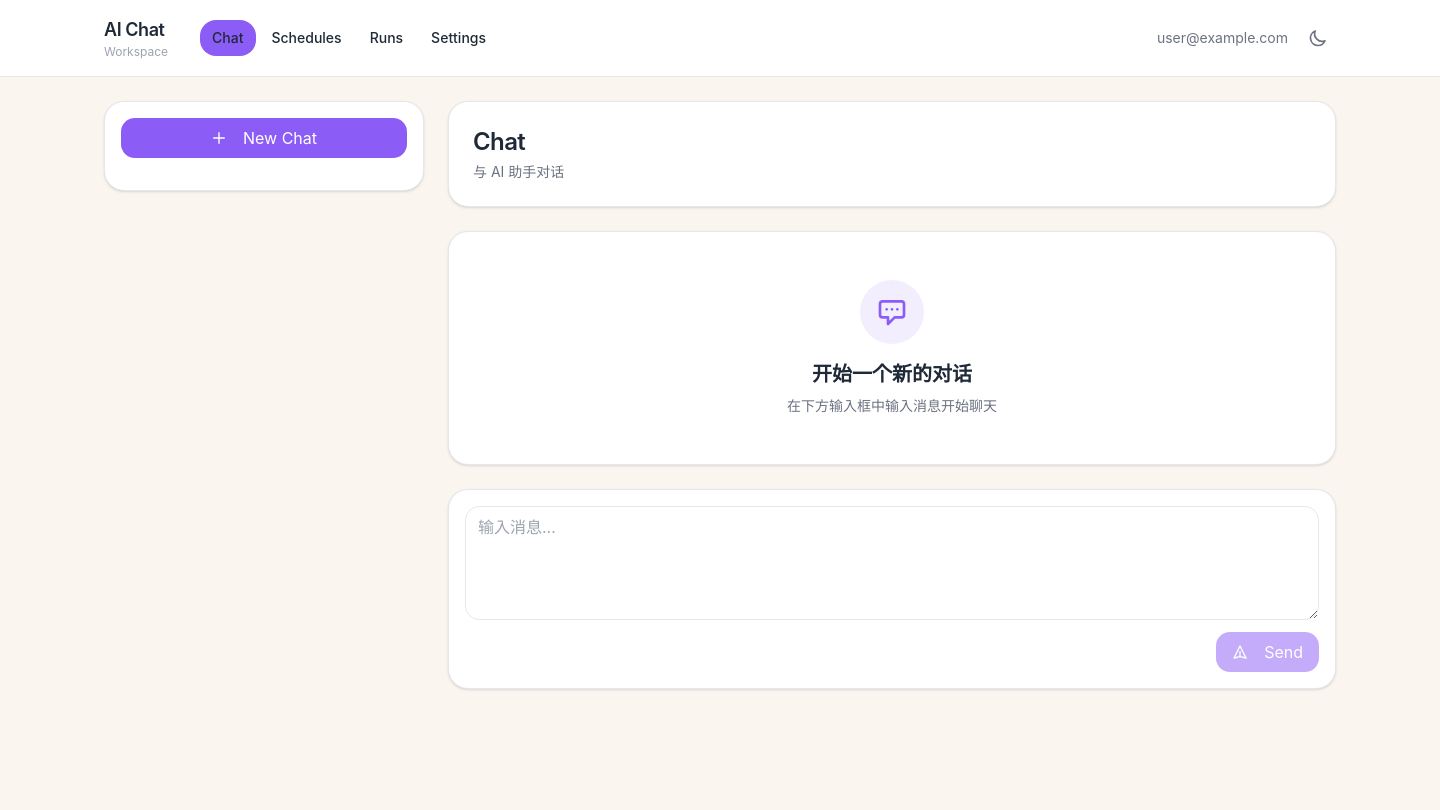
ChatPage › shows empty state before first message and recovery action after failed stream
expect the heading "开始一个新的对话" is shown: met, box top-left (812, 360), bottom-right (972, 388)
In the text box: (892, 563) top-left (465, 506), bottom-right (1319, 620), type "Hello AI"
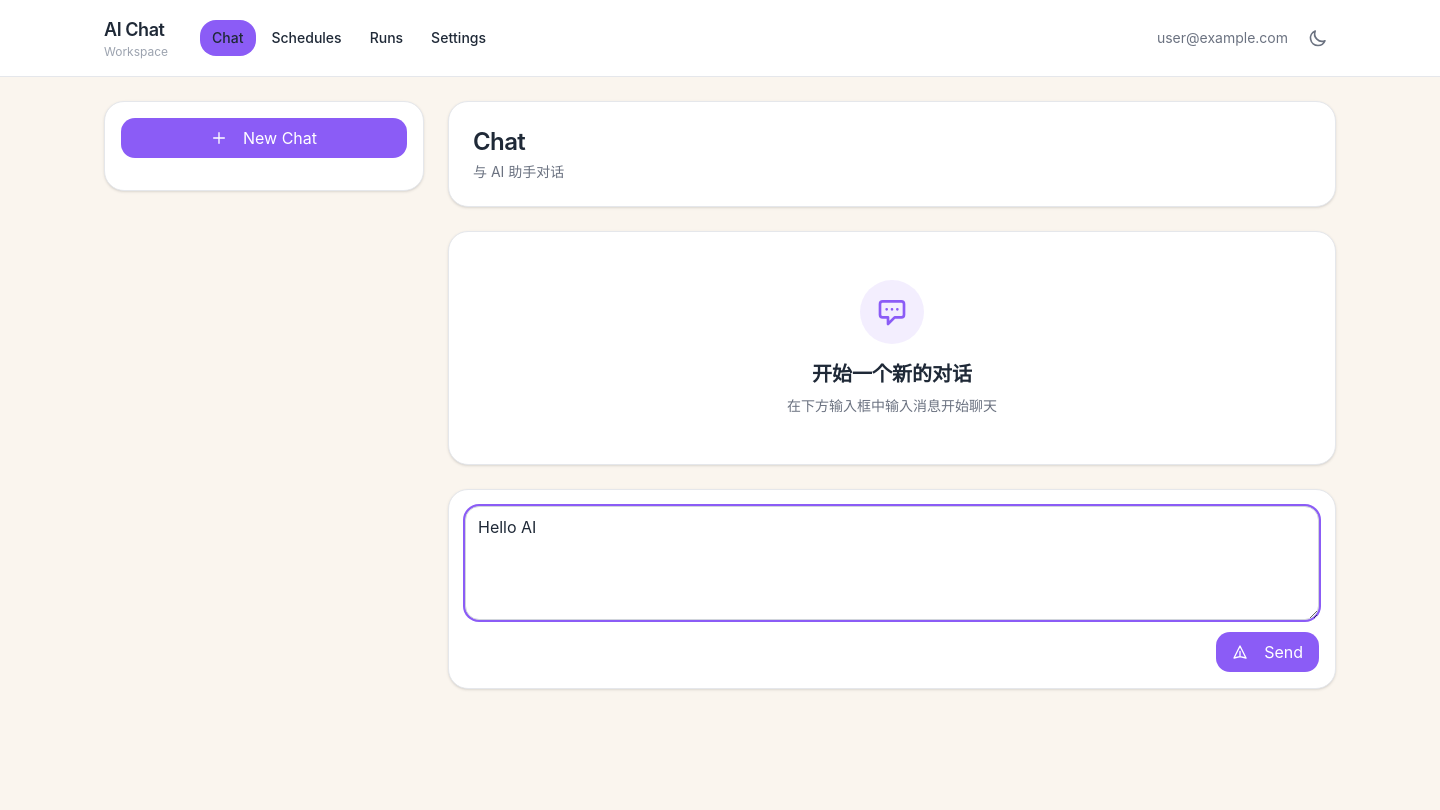
Click the button "Send": (1268, 652) top-left (1216, 632), bottom-right (1319, 672)
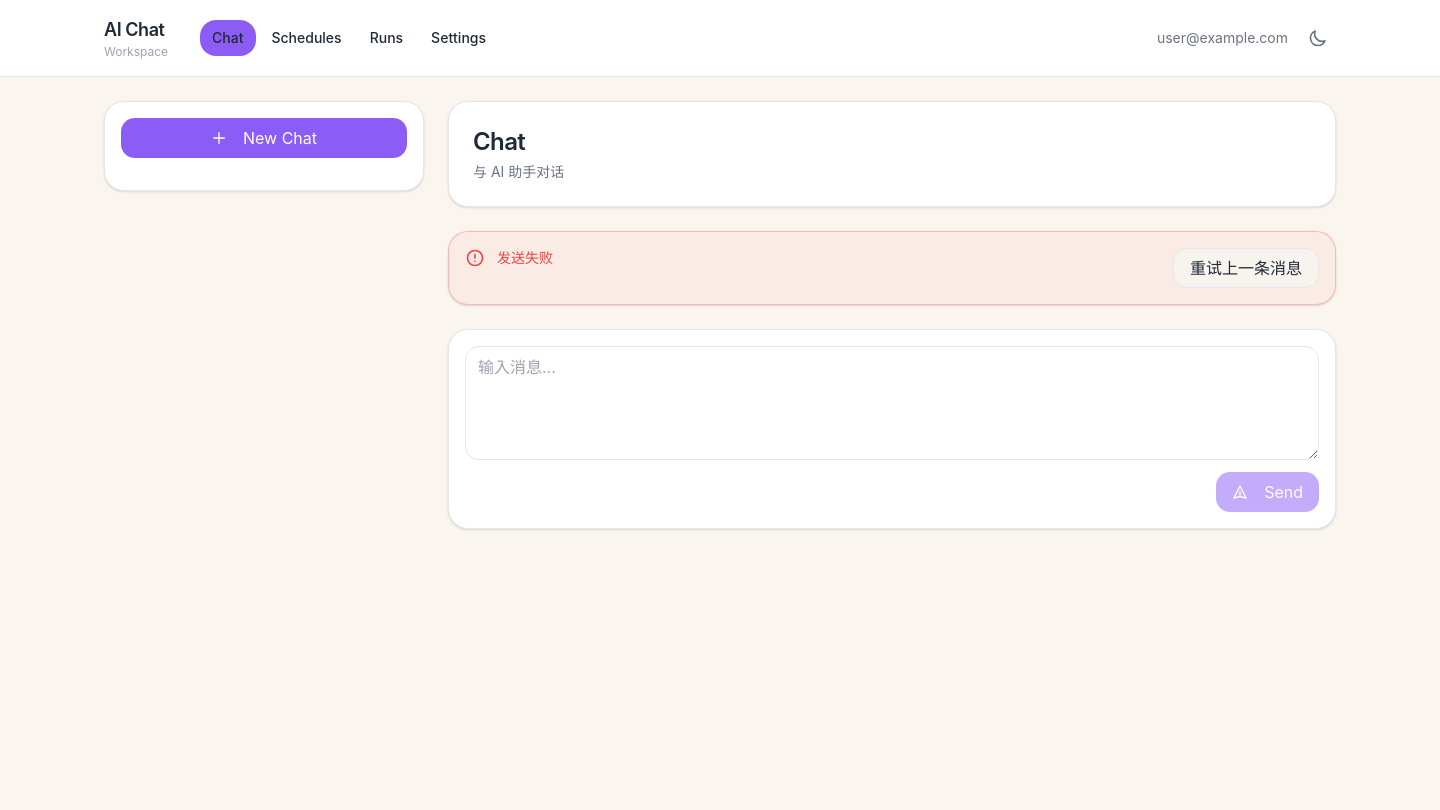
expect the text "发送失败" is shown: met, box top-left (497, 248), bottom-right (553, 268)
expect the button "重试上一条消息" is shown: met, box top-left (1173, 248), bottom-right (1319, 288)
